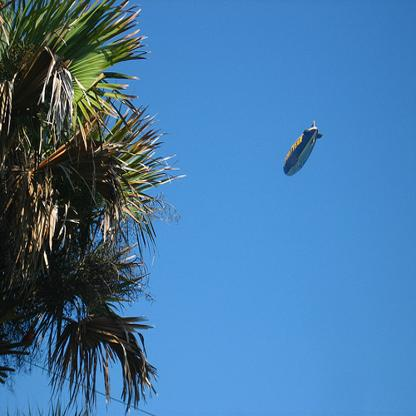Airship: (279, 116, 329, 190)
